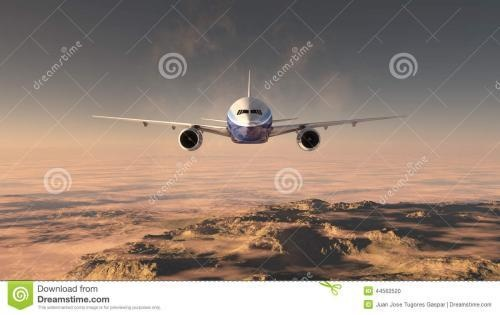airplane: (93, 73, 409, 156)
